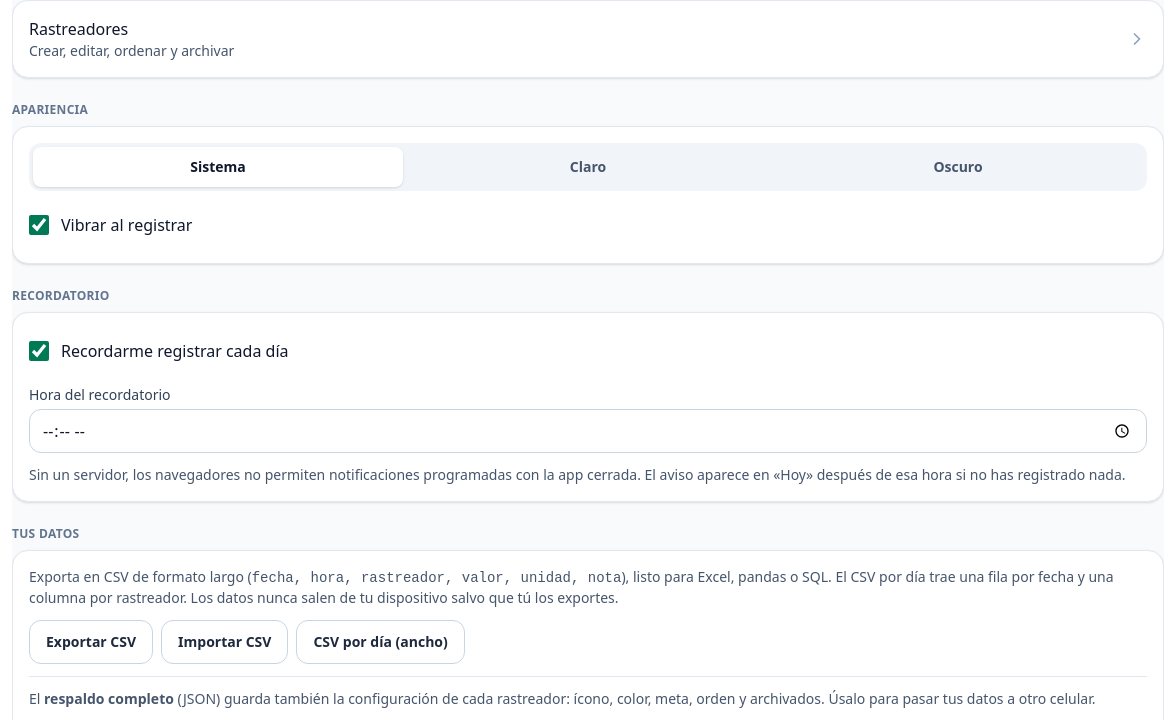
Test: SettingsScreen · CSV › exporta los registros como archivo CSV
Click the button "Exportar CSV" at (91, 642), box left=29, top=620, right=153, bottom=664
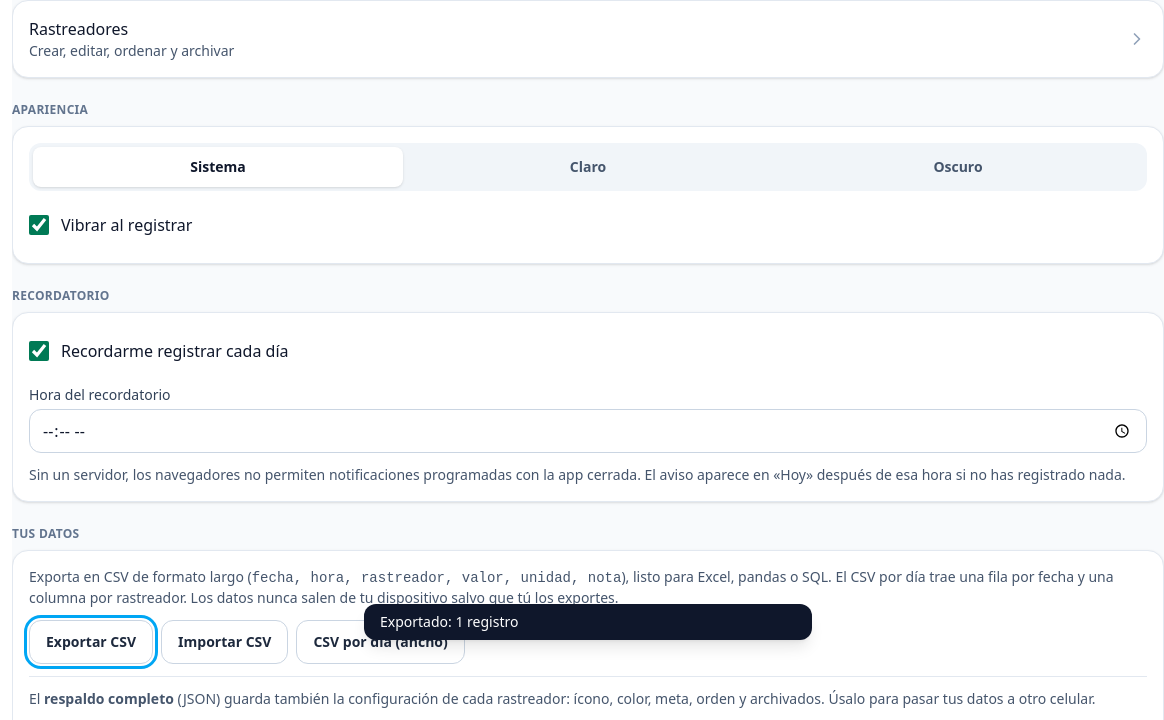
Expected: the text "Exportado: 1 registro" is shown, left=380, top=612, right=518, bottom=632
